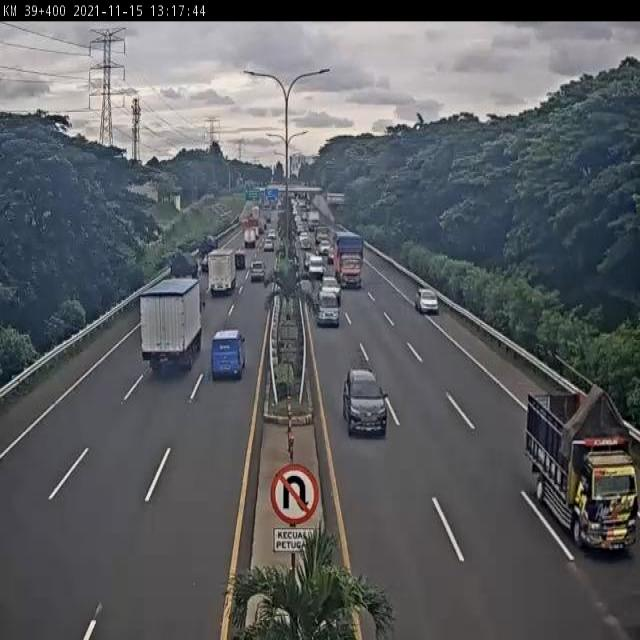Car: (344, 367, 388, 437), (415, 288, 439, 315), (308, 255, 324, 281), (250, 260, 266, 282), (318, 240, 331, 257), (264, 236, 274, 252), (268, 228, 276, 240)
Truck: (524, 383, 640, 553), (139, 276, 202, 372), (333, 229, 364, 288), (208, 249, 236, 293)
Van: (210, 330, 246, 380), (315, 292, 340, 327)
